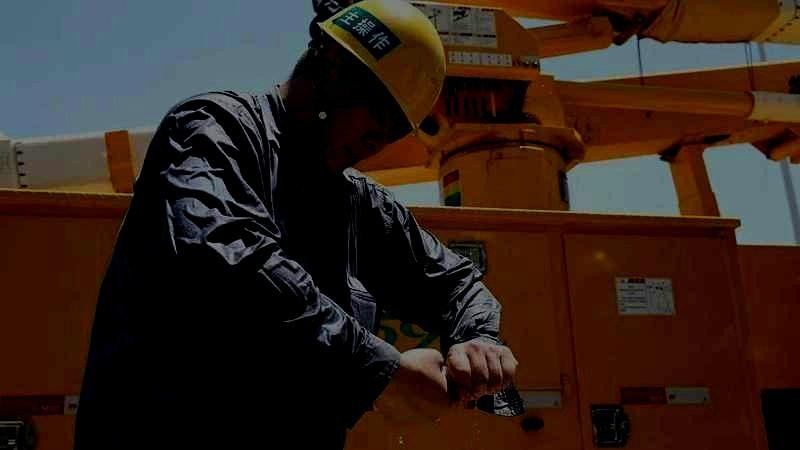helmet: (288, 1, 446, 169)
